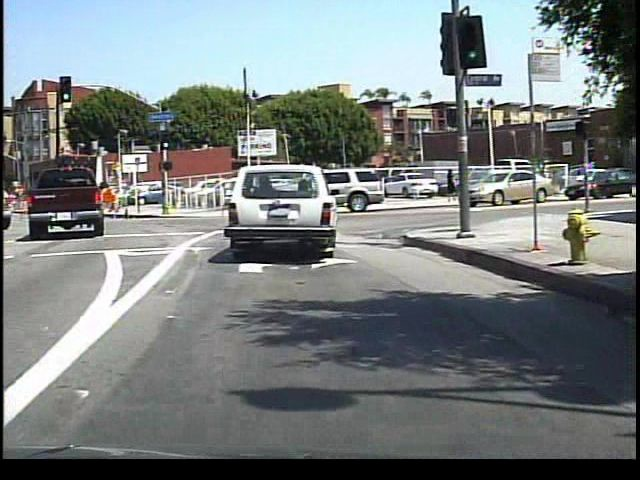person: (442, 166, 457, 205)
